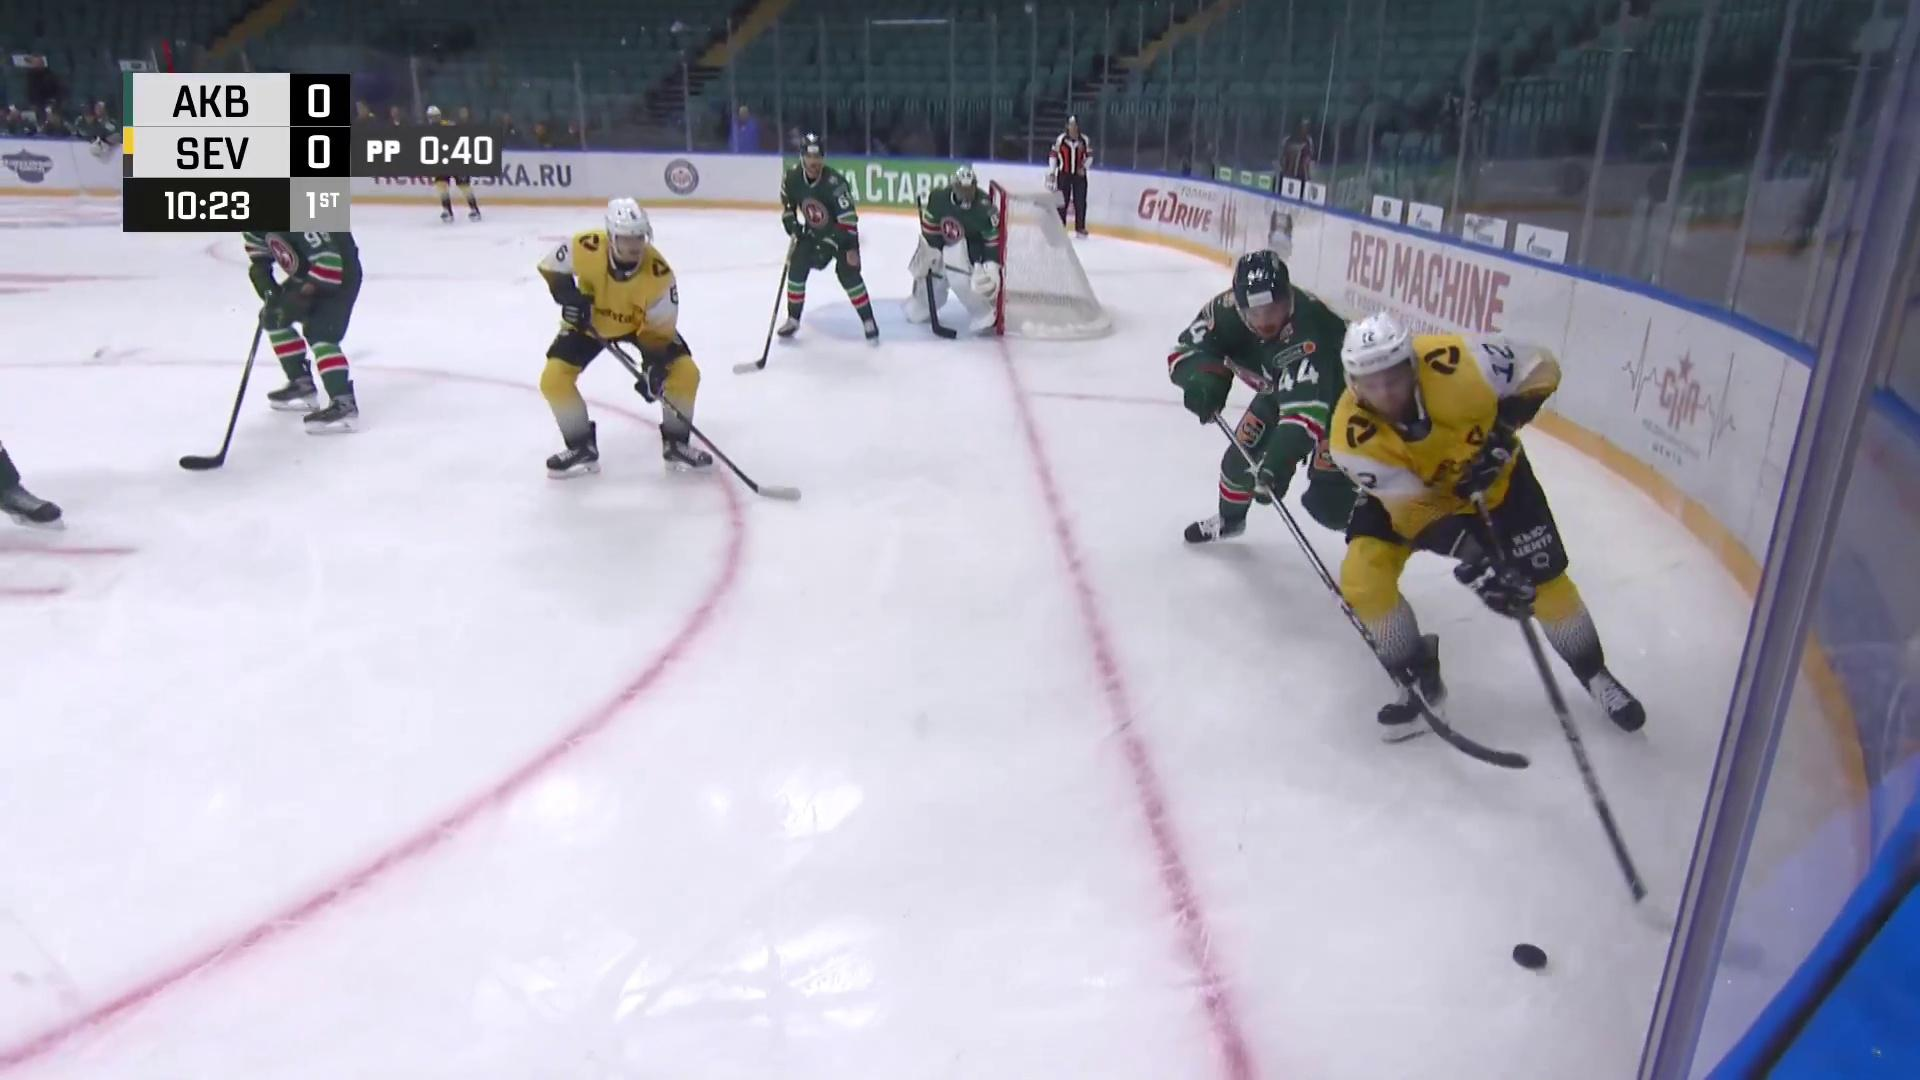ball: (1511, 942, 1549, 972)
